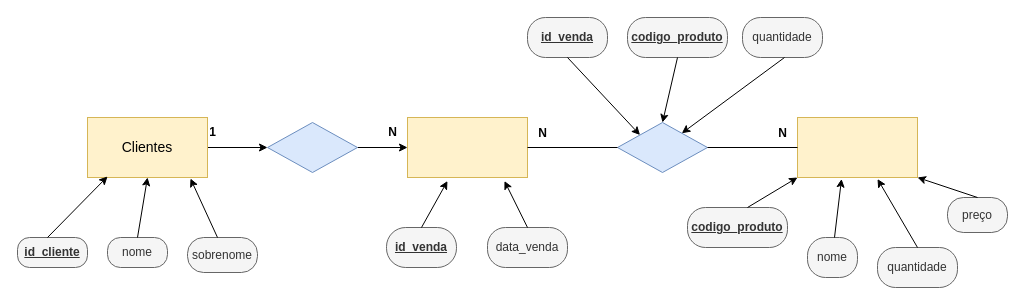
The diagram is 1025 pixels wide and 305 high, and some of its shapes have lost their labels. The centre of each missing label's shape, as x and y in pixels:
"Produtos" belongs at pixel 857 147.
"realiza" belongs at pixel 312 147.
"tem" belongs at pixel 662 147.
"Vendas" belongs at pixel 467 147.
